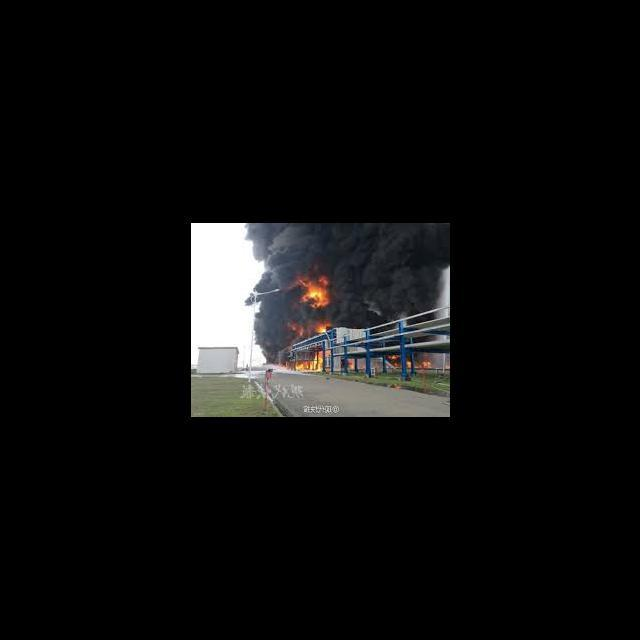Fire: (297, 276, 330, 310), (294, 351, 331, 372), (389, 355, 400, 365), (422, 360, 434, 368), (318, 323, 328, 332), (347, 358, 353, 369), (406, 359, 412, 366)
Smoke: (241, 223, 449, 343)
